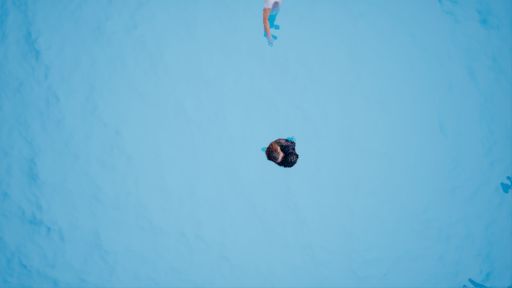person: (262, 134, 303, 168)
